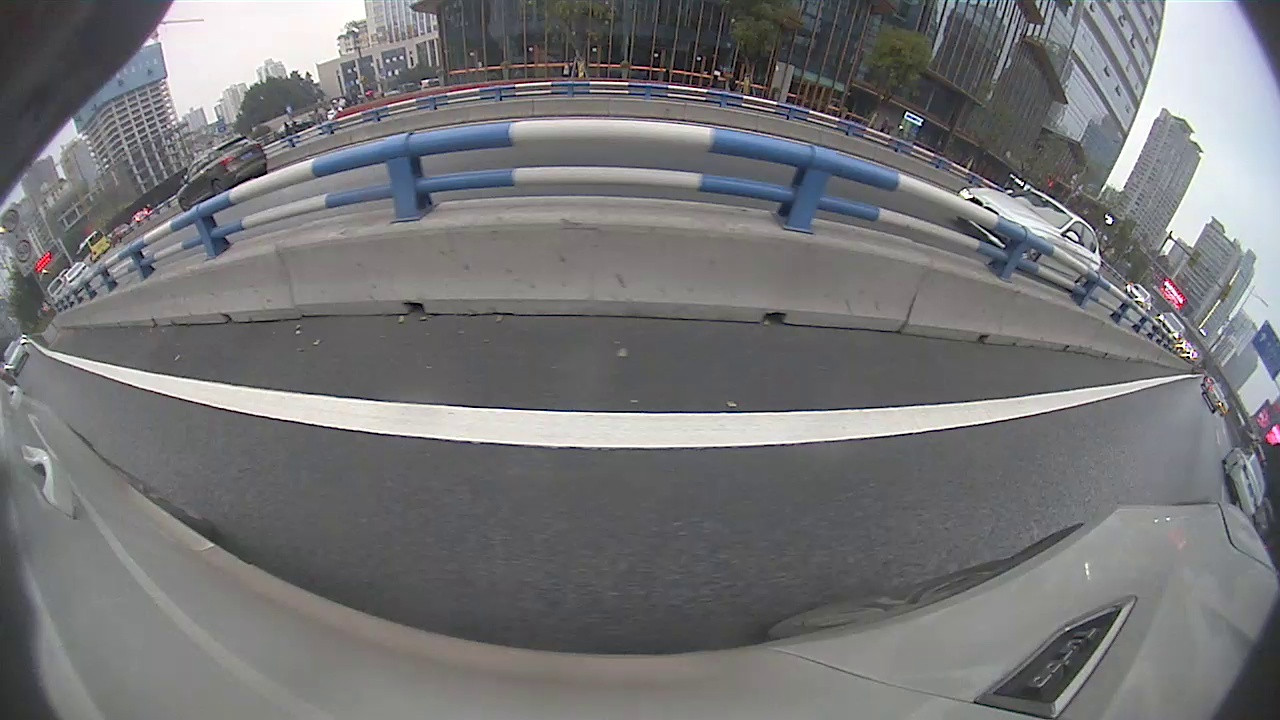car: (1220, 445, 1266, 503)
